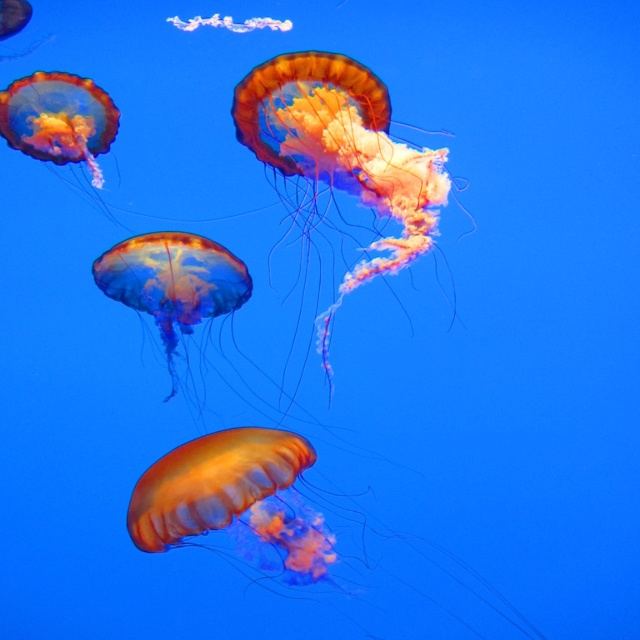Jellyfish: (228, 45, 481, 409), (130, 428, 546, 640), (87, 230, 404, 460), (0, 74, 273, 233), (0, 0, 51, 62)
